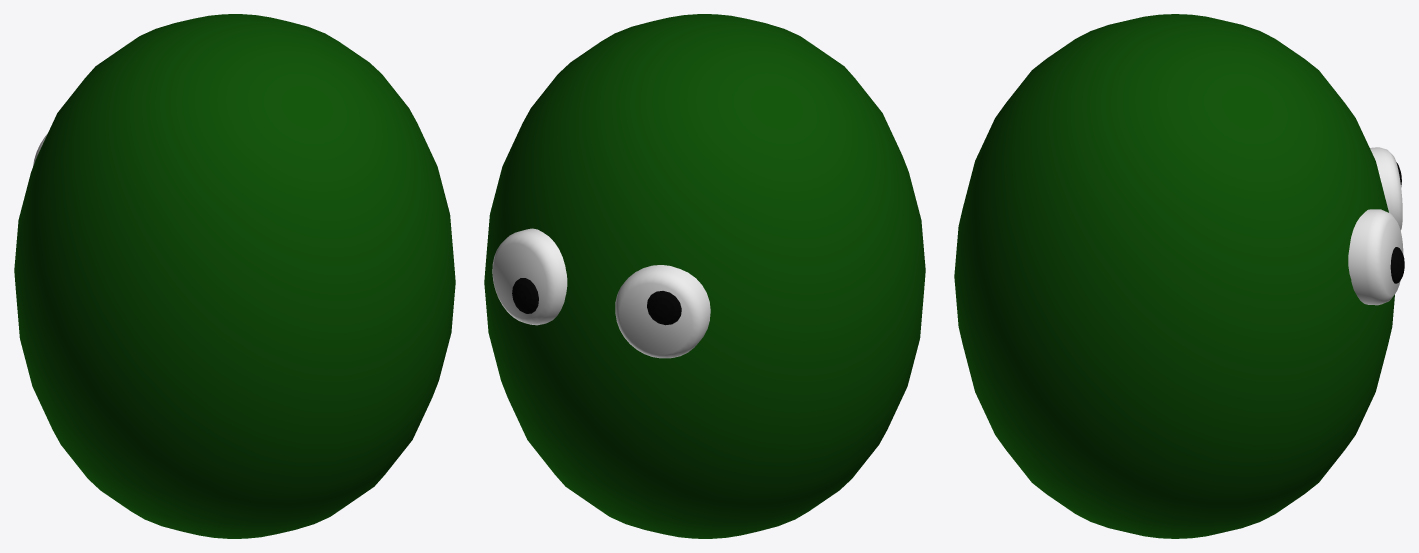
The model's file is Melon.fbx.
The picture shows the model from 3 angles, left to right: view 1: azimuth 30°, elevation 25°; view 2: azimuth 150°, elevation 25°; view 3: azimuth 270°, elevation 25°; orthographic projection.
Visible parts, largest first — view 1: Melon; view 2: Melon, Sphere.001; view 3: Melon, Sphere.001.
Part boxes in pixels (x1=…): Melon: x1=14, y1=14, x2=455, y2=538; Melon: x1=484, y1=14, x2=925, y2=538; Sphere.001: x1=492, y1=228, x2=710, y2=358; Melon: x1=954, y1=14, x2=1394, y2=538; Sphere.001: x1=1348, y1=147, x2=1404, y2=305.
Bounding box in the file's own units: 200 × 241 × 204.
